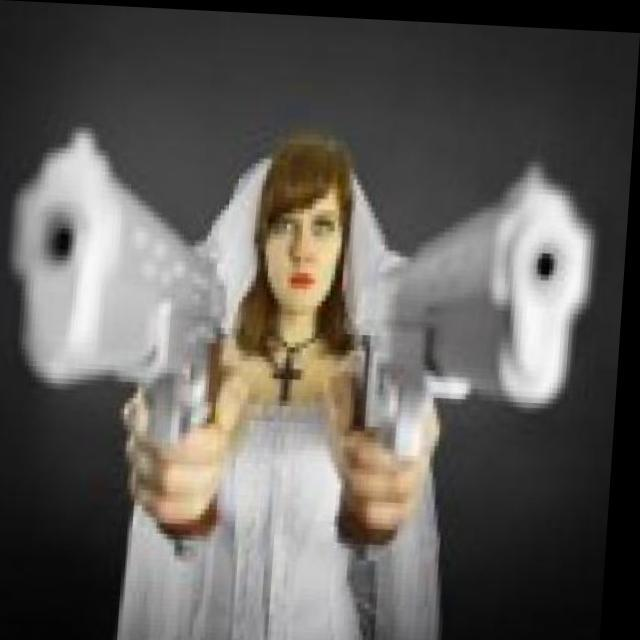weapon: (337, 140, 612, 566), (0, 110, 255, 566)
